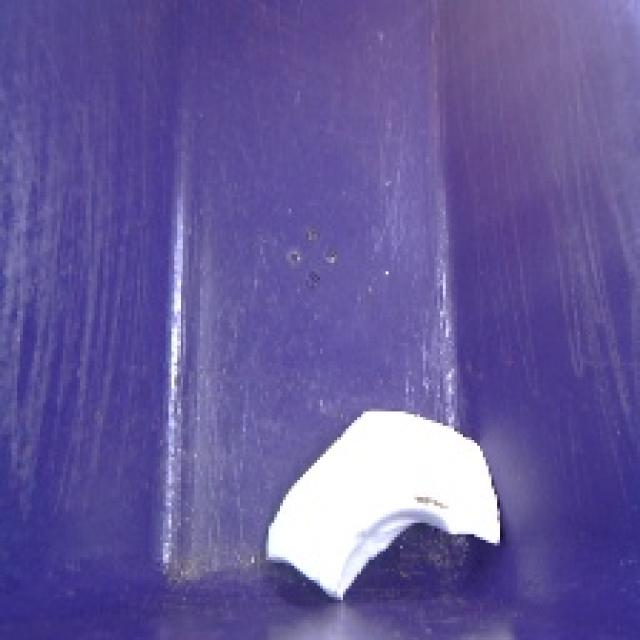china: (254, 400, 514, 615)
